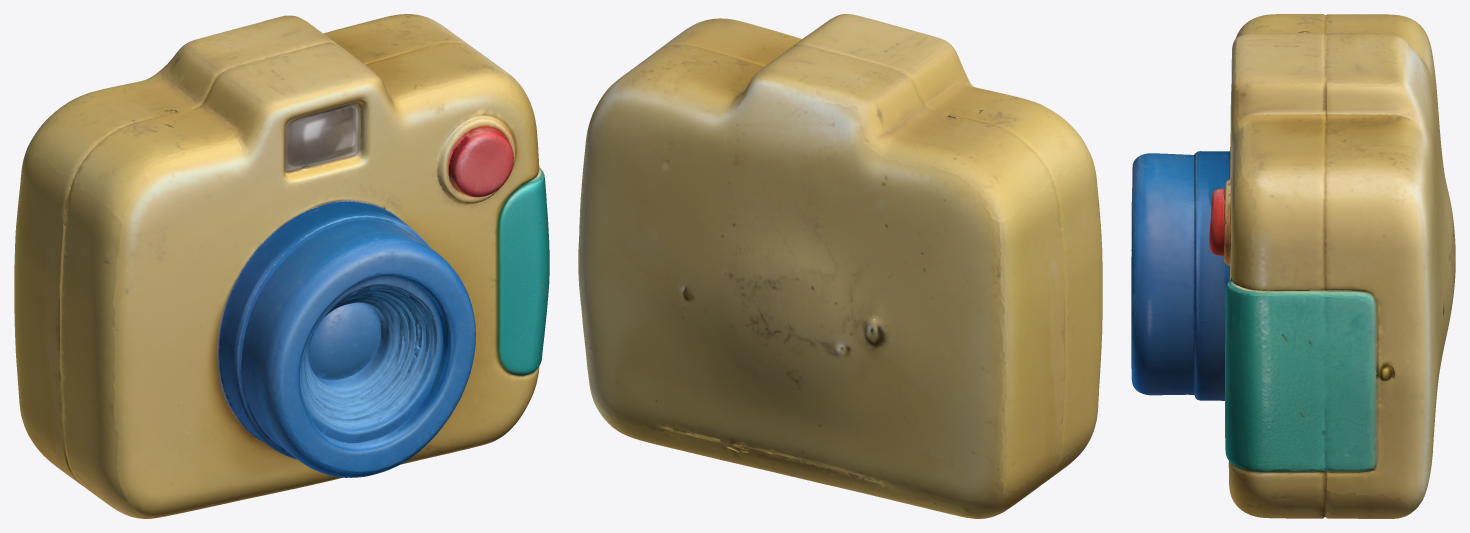
File: toy-camera.glb
3 renders of one model, left to right at view 1: azimuth 30°, elevation 25°; view 2: azimuth 150°, elevation 25°; view 3: azimuth 270°, elevation 25°, orthographic. The views are drawn at different scales.
Parts seen in each view (by area): view 1: geometry_0; view 2: geometry_0; view 3: geometry_0.
Boxes of the visible parts, box(x1,y1,x2,y2) form: geometry_0: box(14, 14, 549, 518); geometry_0: box(578, 14, 1102, 518); geometry_0: box(1131, 14, 1455, 518).
Bounding box in the file's own units: 0.12 × 0.1024 × 0.0792.
1 material, 1 textured.
